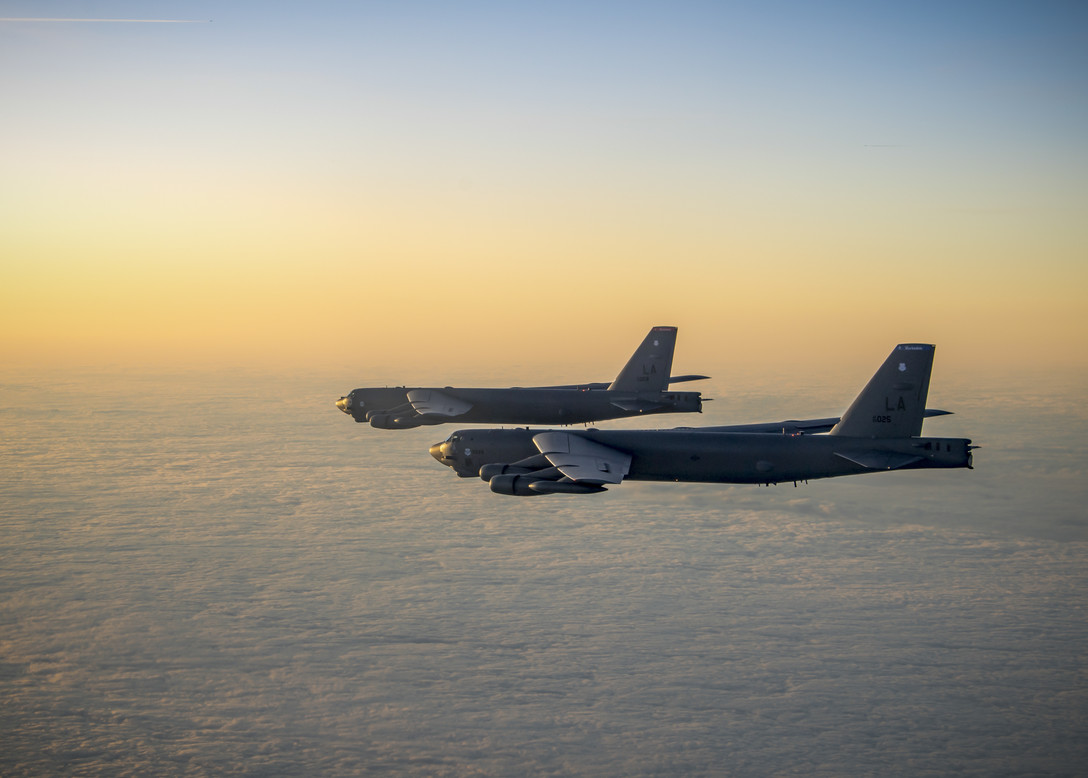B52: (427, 343, 982, 497), (334, 325, 715, 430)
